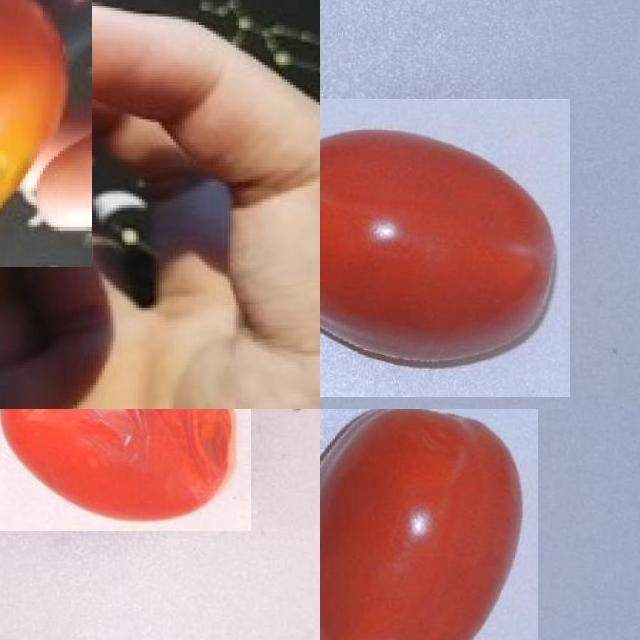Fresh Tomato: (320, 98, 569, 397), (320, 409, 537, 640)
Rotten Tomato: (0, 409, 250, 531), (0, 0, 92, 267)
